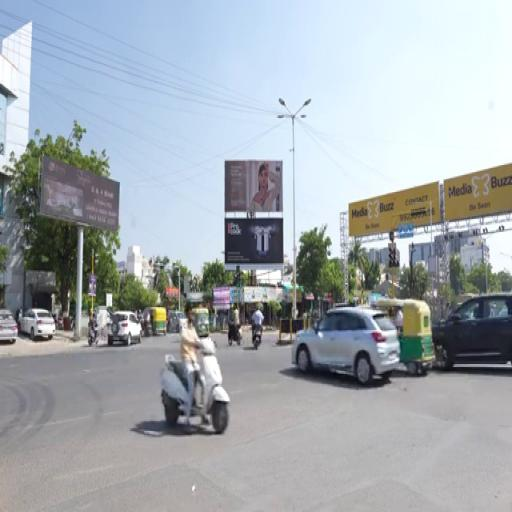Car: (292, 308, 399, 385), (432, 293, 511, 369), (20, 309, 55, 341), (108, 312, 141, 345), (0, 309, 18, 344), (168, 311, 186, 332)
